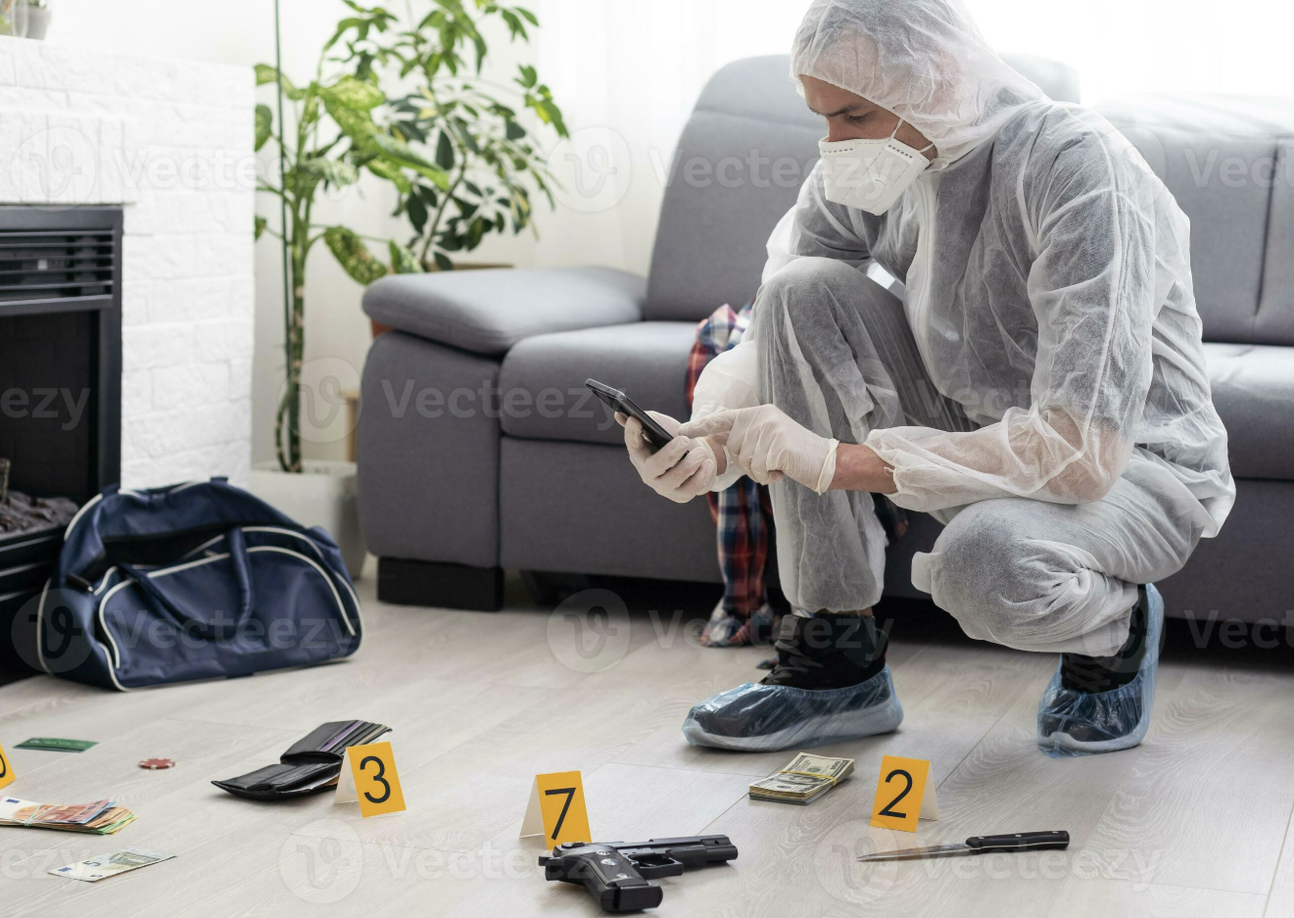gun_029: (533, 824, 750, 914)
